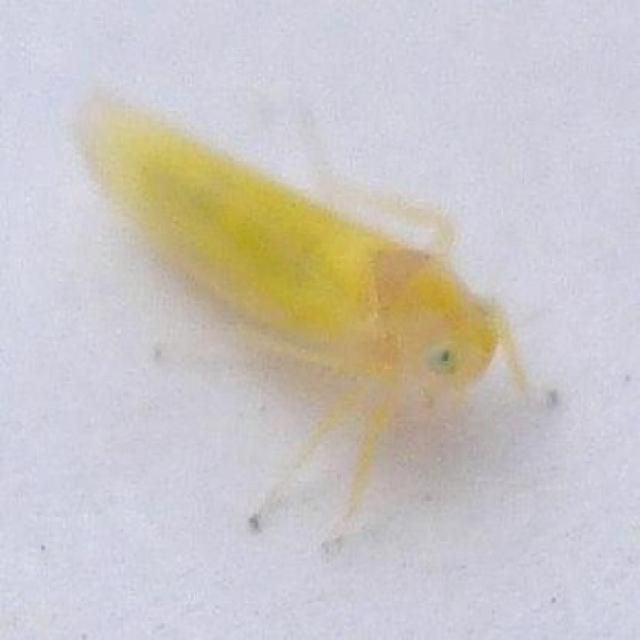green-leafhopper: (74, 92, 534, 549)
